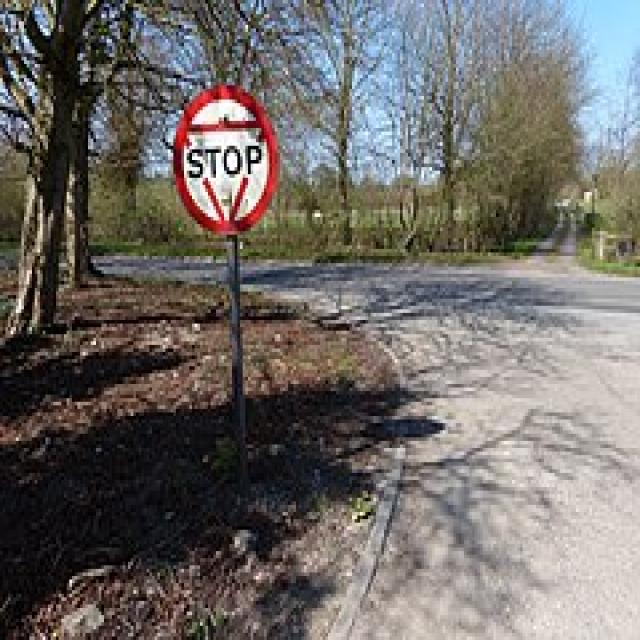Traffic sign: (173, 92, 282, 229)
